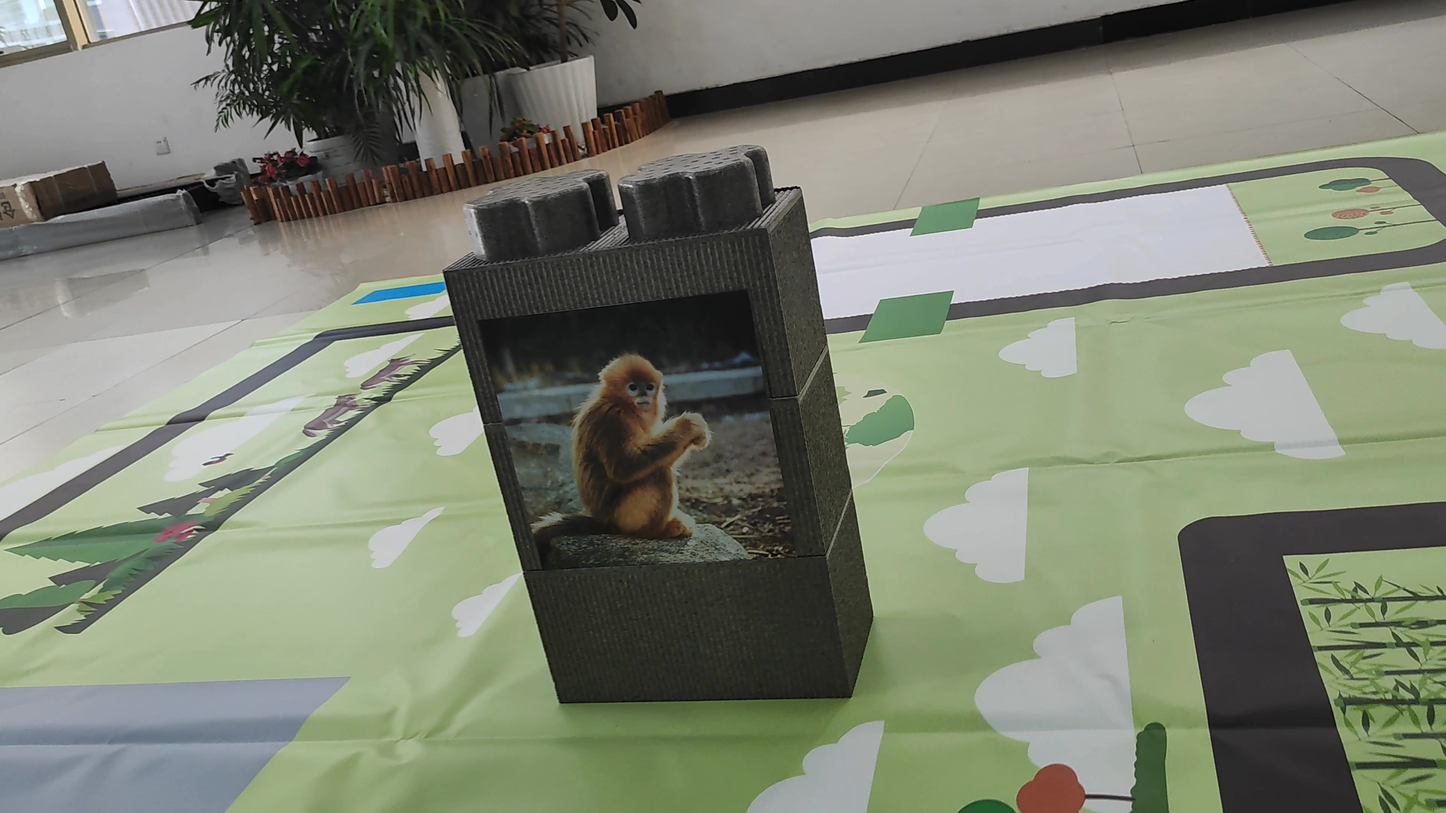monkey: (525, 345, 736, 550)
